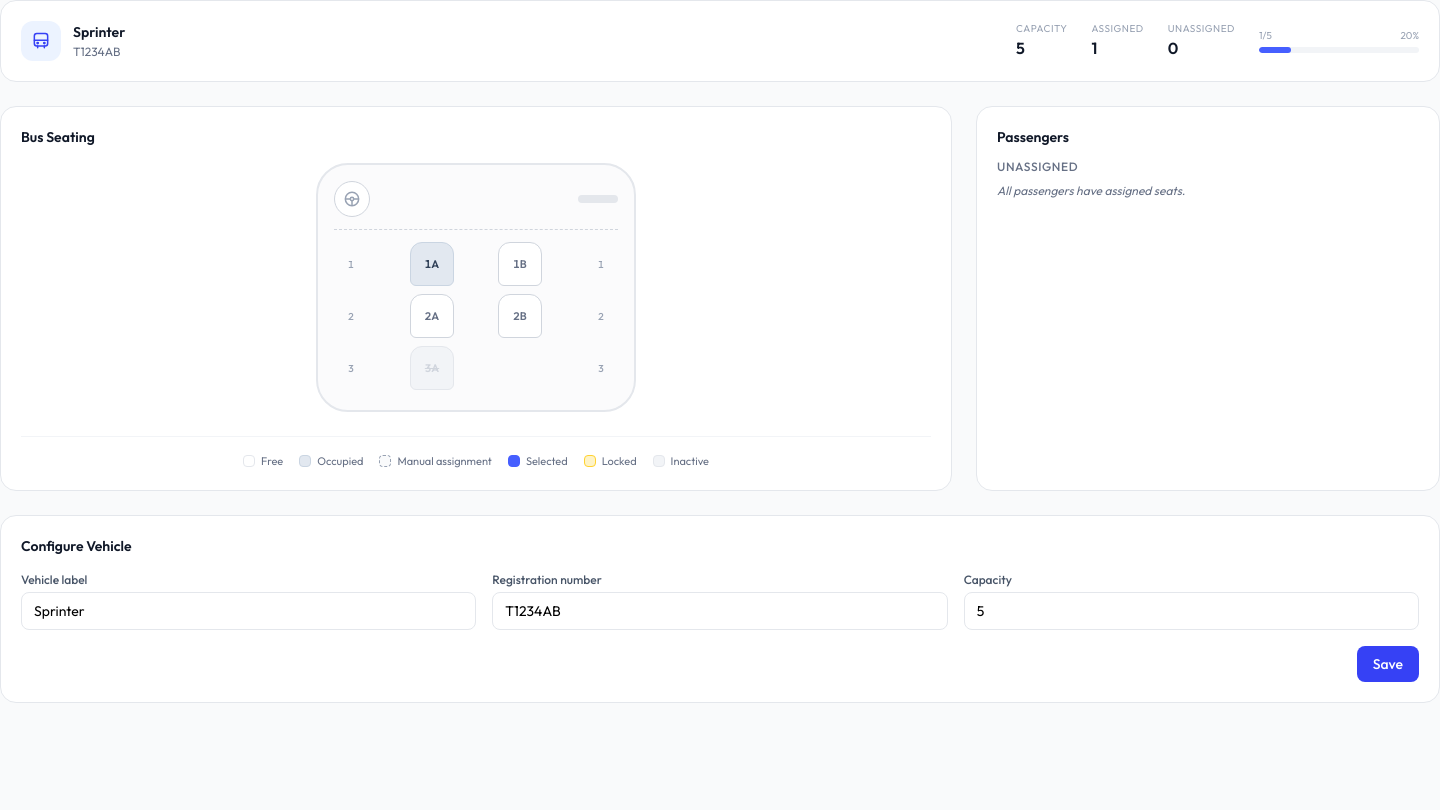
Test: ManualBusSeating › shows real API error code from SEAT_LOCKED
This screenshot has width=1440, height=810.
Click the button "1A" at (432, 264), box [410,242,454,286]
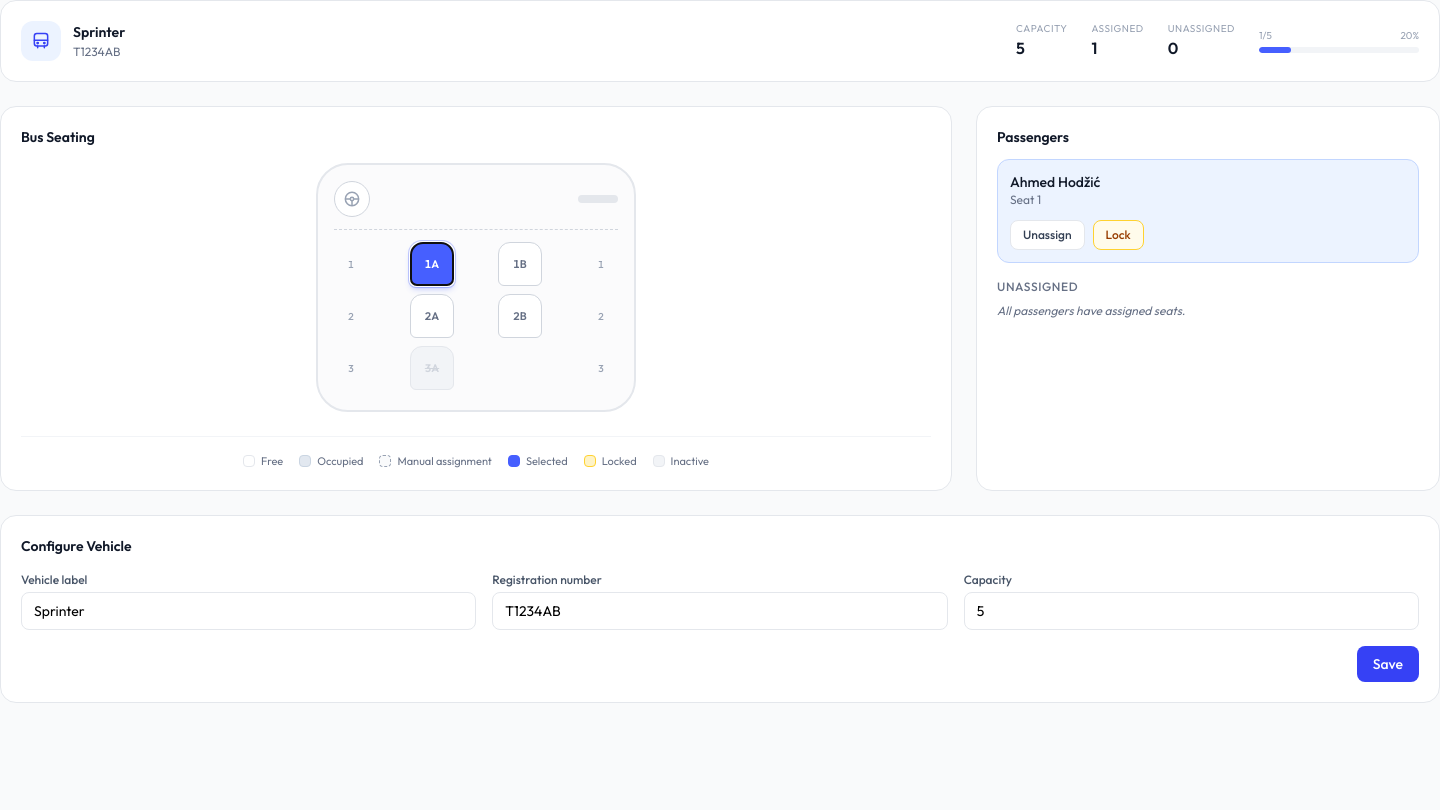
Click the button "2A" at (432, 316), box [410,294,454,338]
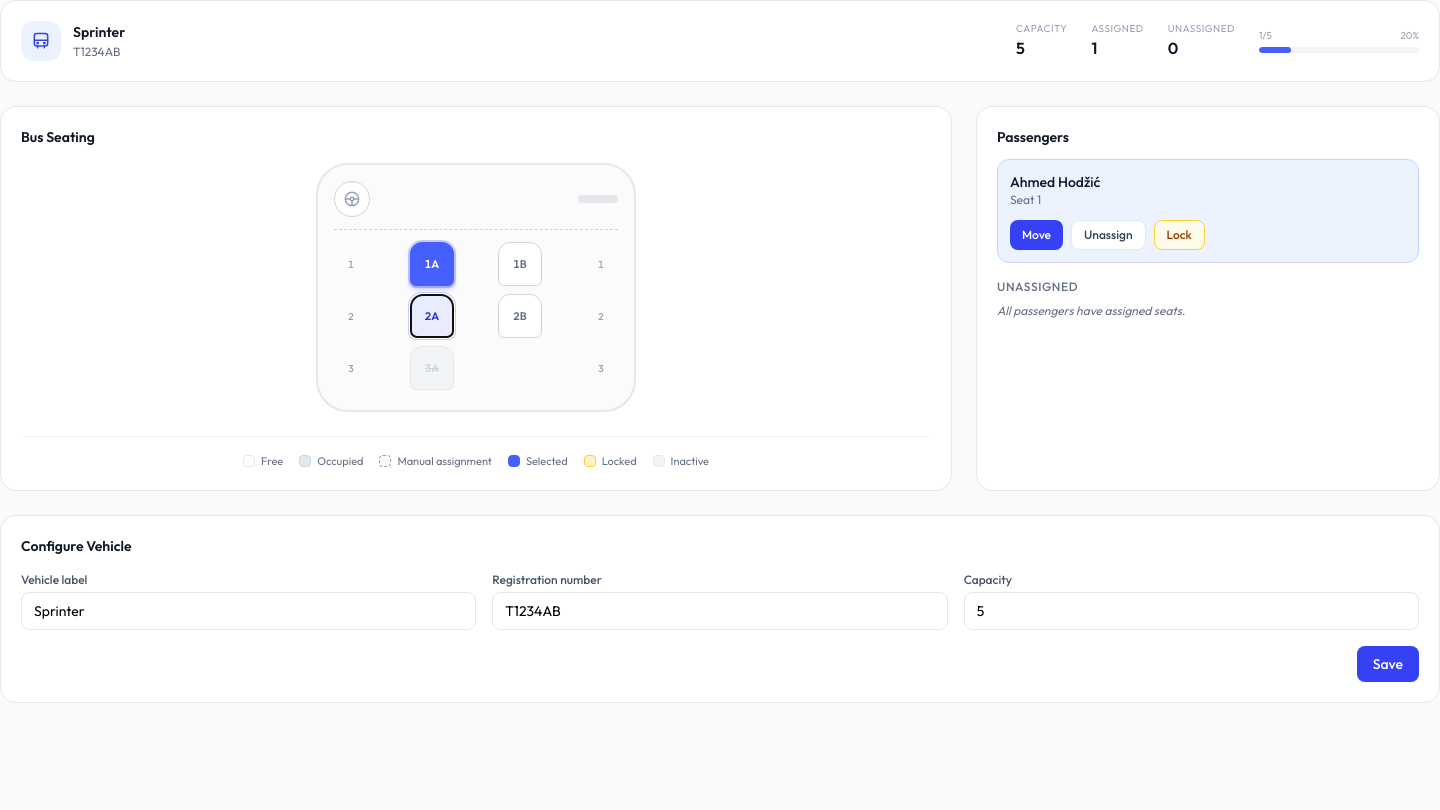
Click the button "Move" at (1036, 235), box [1010,220,1063,250]
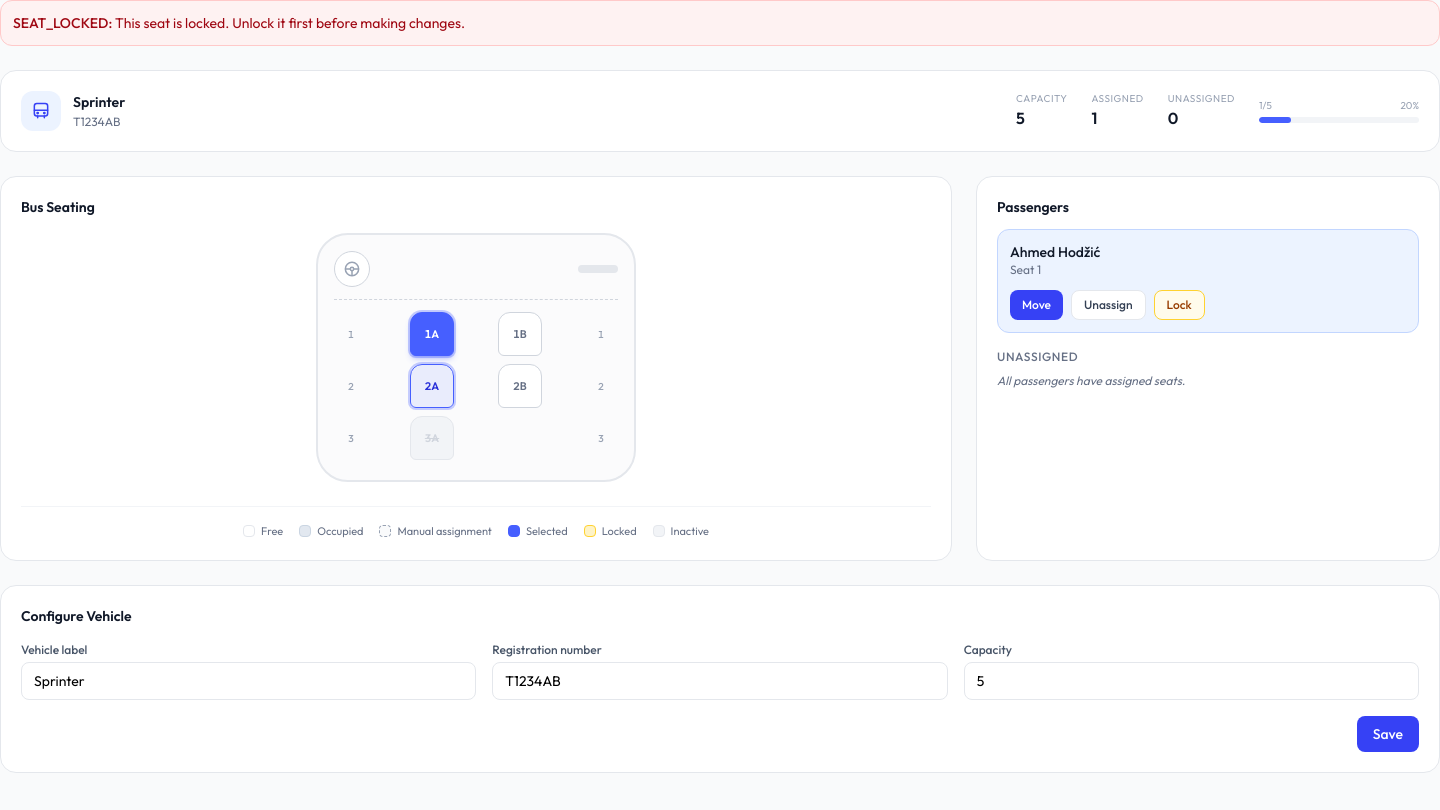
Expected: the text "SEAT_LOCKED:" is shown, [13,14,112,32]
